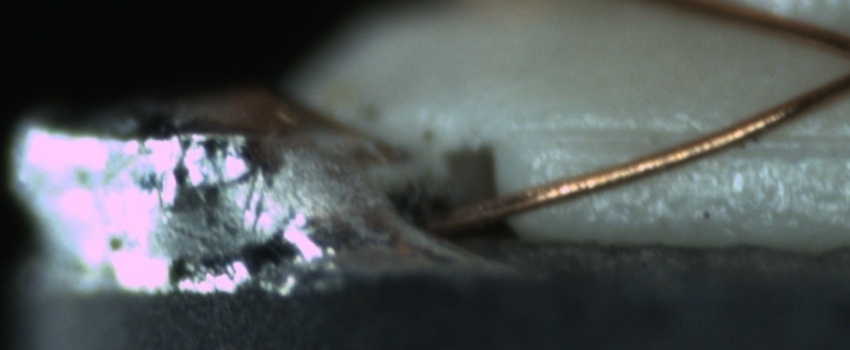DL: (528, 105, 849, 170)
